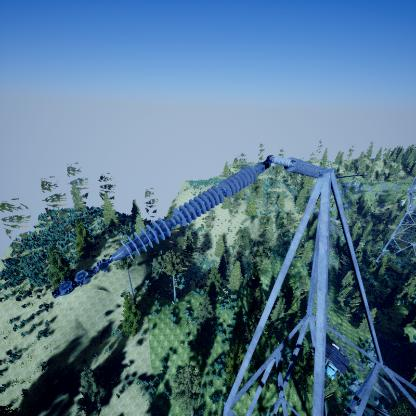insulator: (118, 165, 258, 262)
